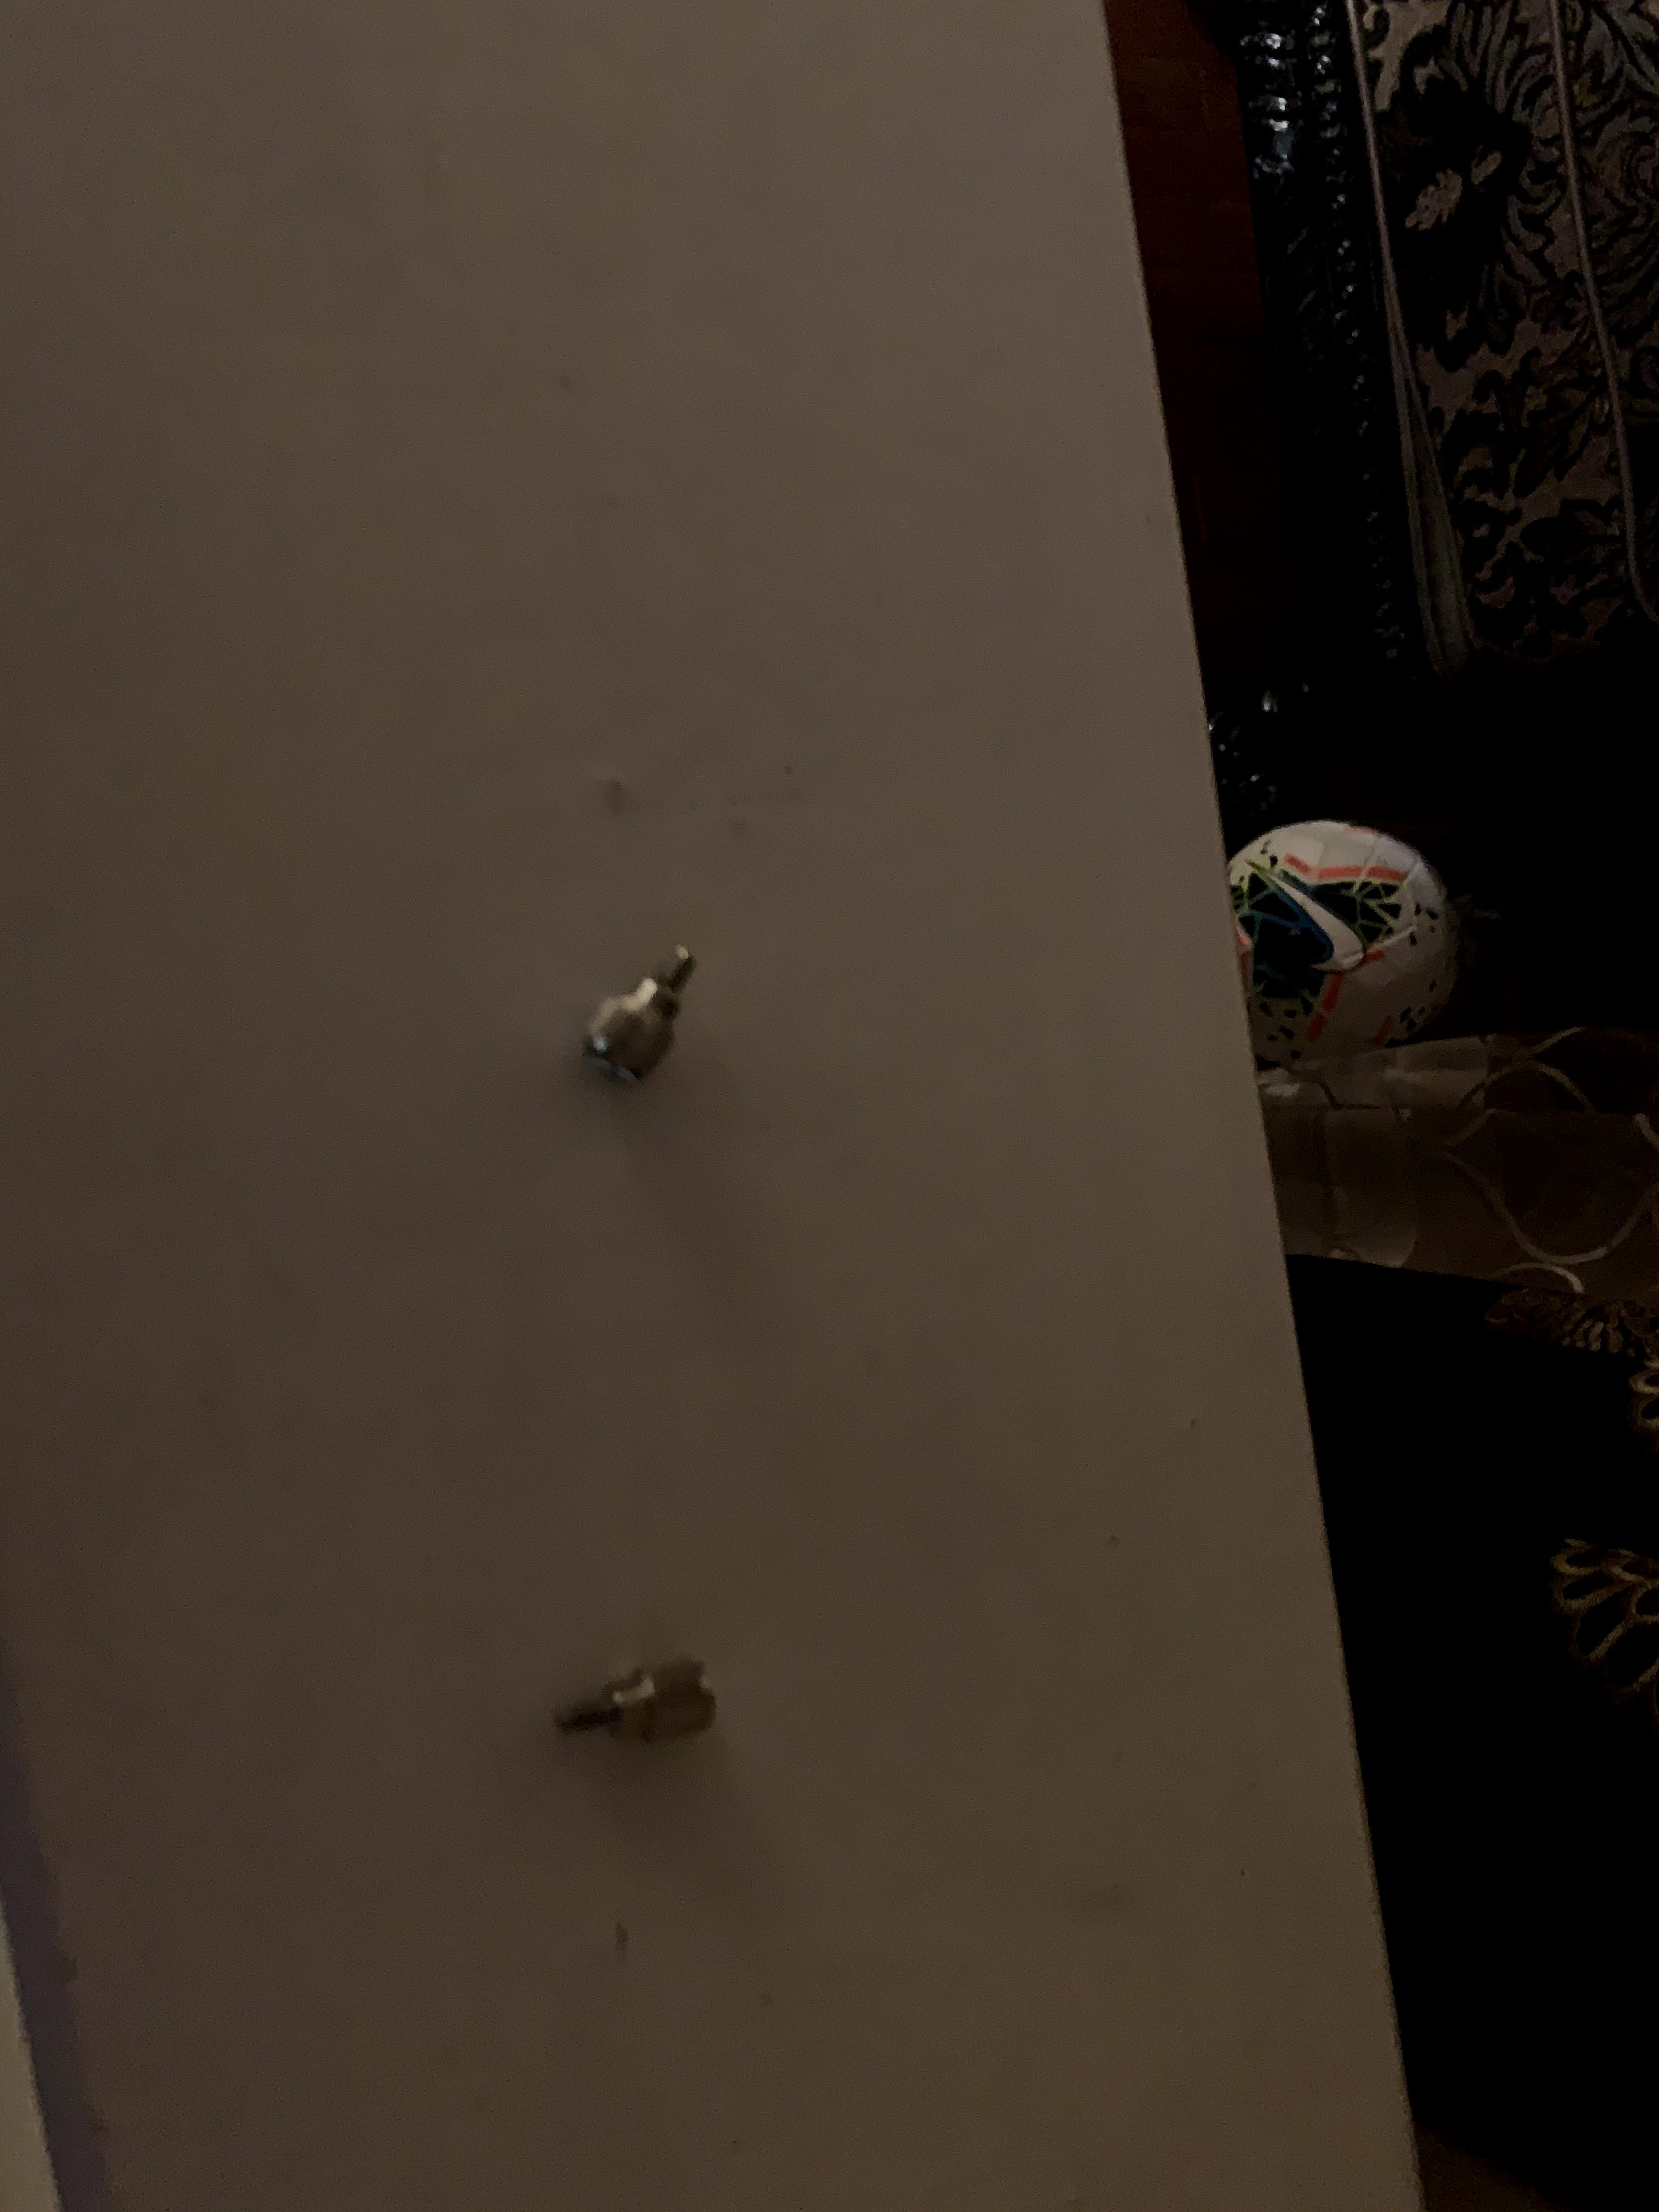Space-debris-small: (570, 925, 725, 1104), (542, 1644, 725, 1763)
